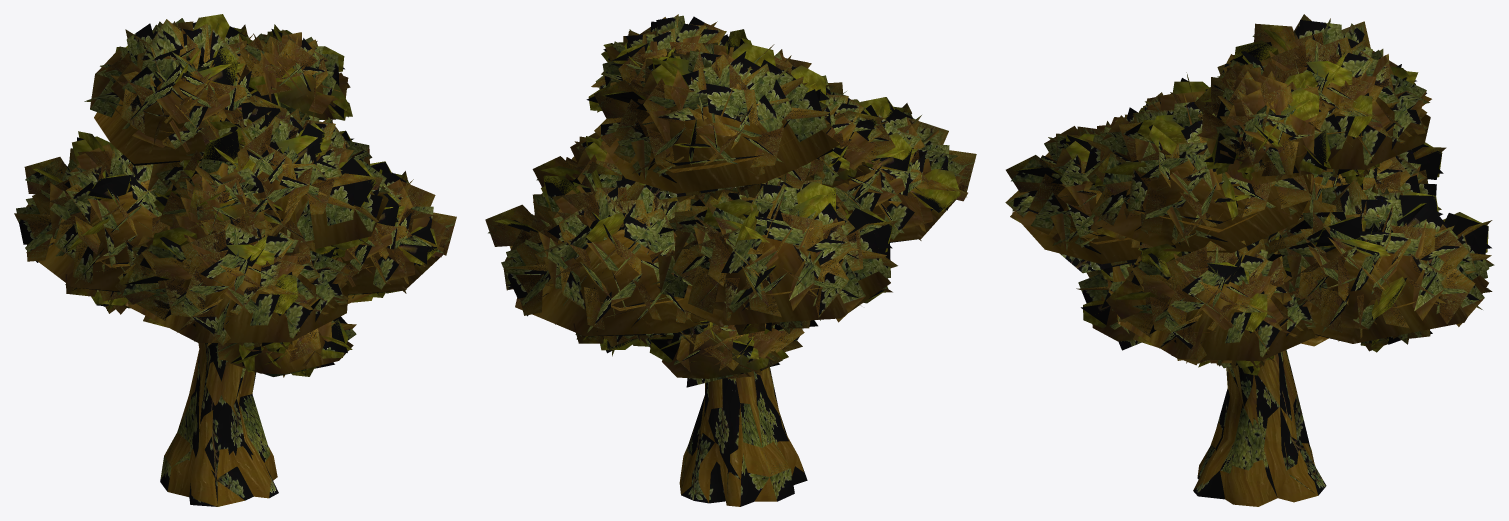
The model's file is Large_Green.glb.
3 renders of one model, left to right at view 1: azimuth 30°, elevation 25°; view 2: azimuth 150°, elevation 25°; view 3: azimuth 270°, elevation 25°, orthographic. The views are drawn at different scales.
Parts seen in each view (by area): view 1: Large_Green; view 2: Large_Green; view 3: Large_Green.
Boxes of the visible parts, box(x1,y1,x2,y2) form: Large_Green: box(14, 14, 456, 506); Large_Green: box(485, 14, 976, 506); Large_Green: box(1005, 14, 1494, 506).
Size of the model in its own units: 68.99 by 80.63 by 78.11.
2 materials, 2 textured.
